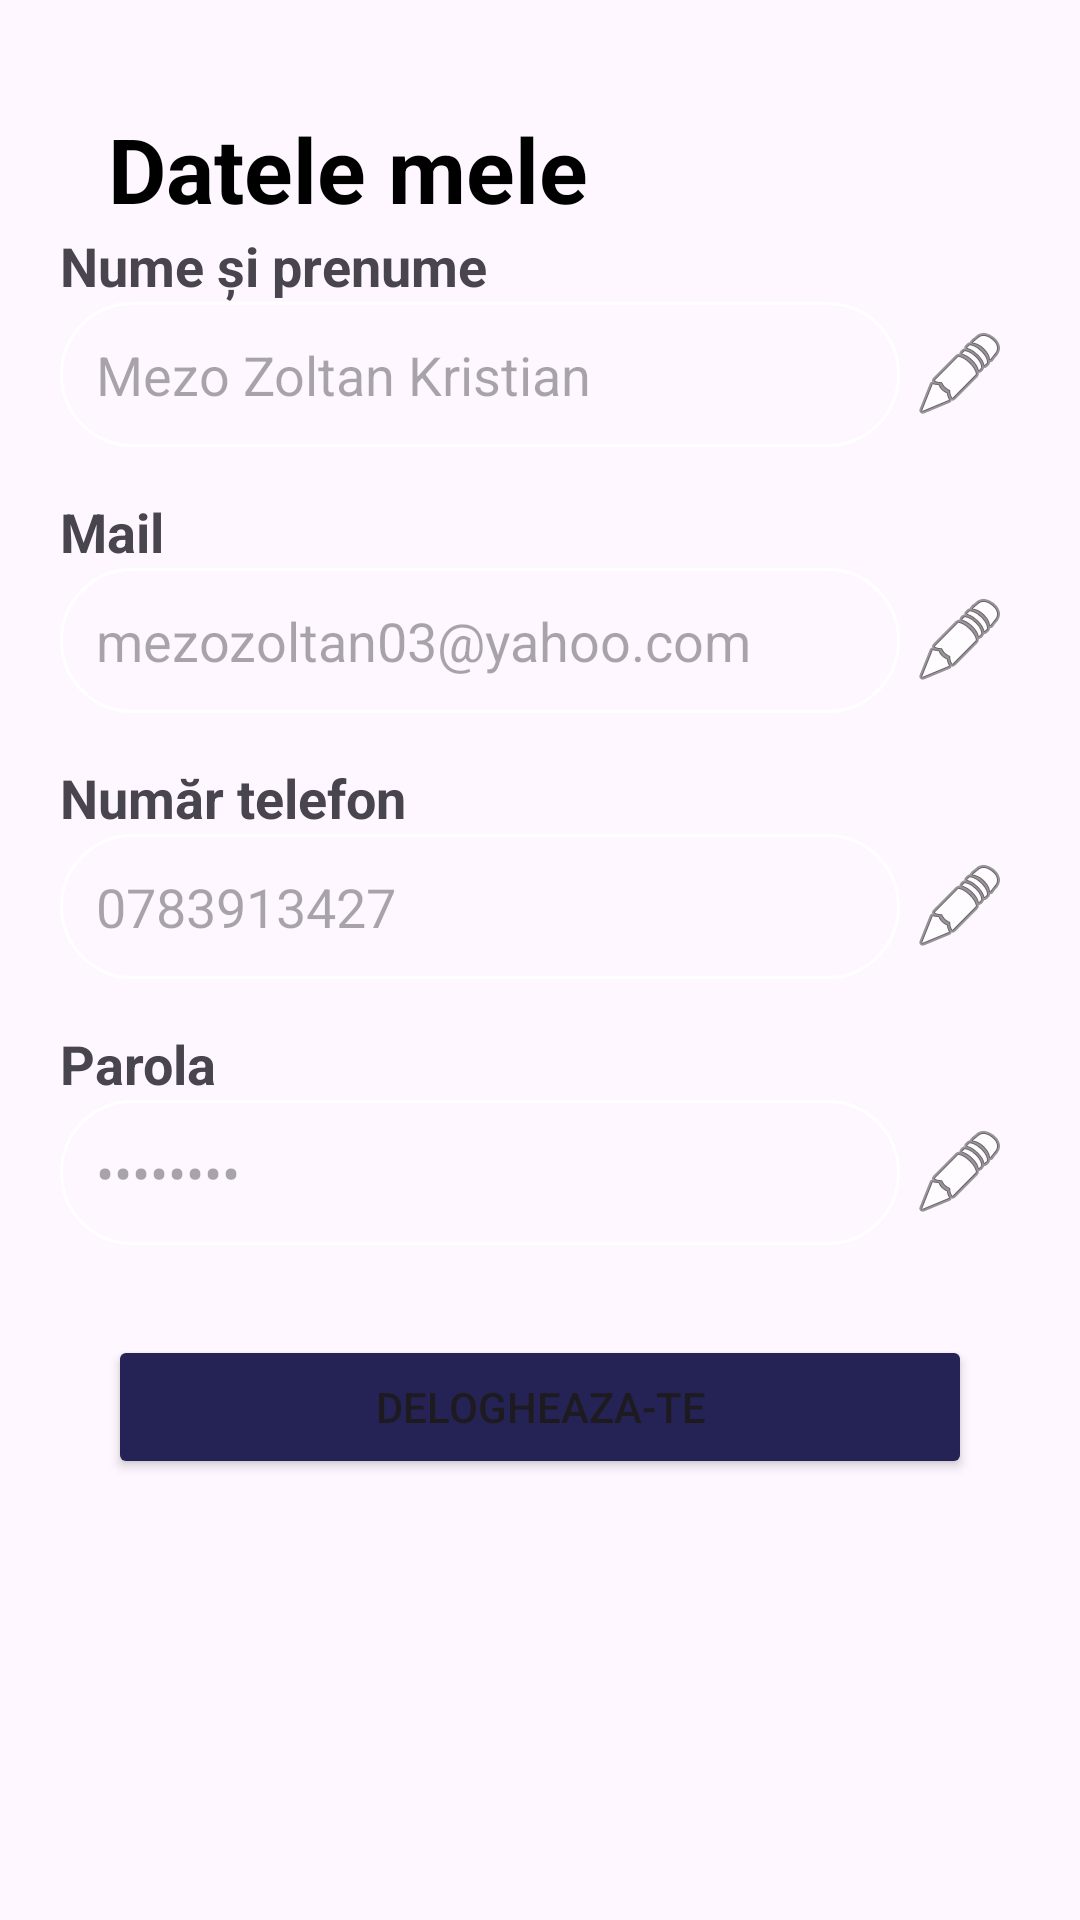

Locate icon controls on the screen. Image size 1080x1920, boxes as (x1, y1, x2, y2).
edit: (919, 333, 1000, 414), (919, 599, 1000, 680), (919, 865, 1000, 946), (919, 1131, 1000, 1212)
